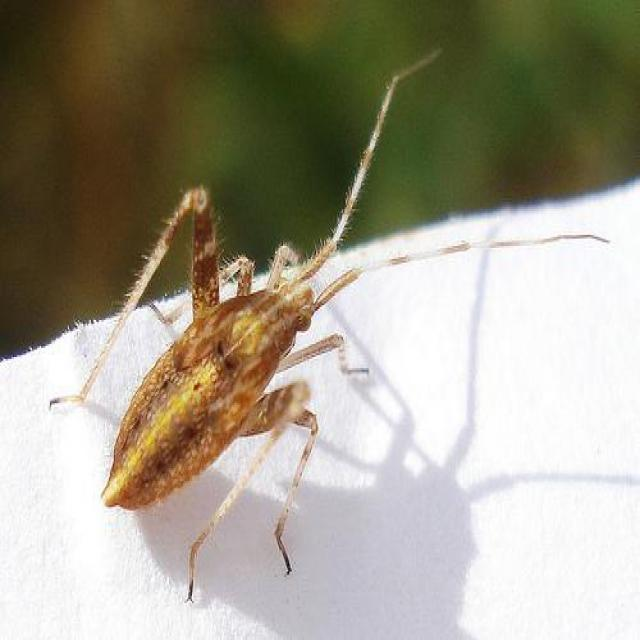Miridae-Adult-: (64, 60, 451, 600)
